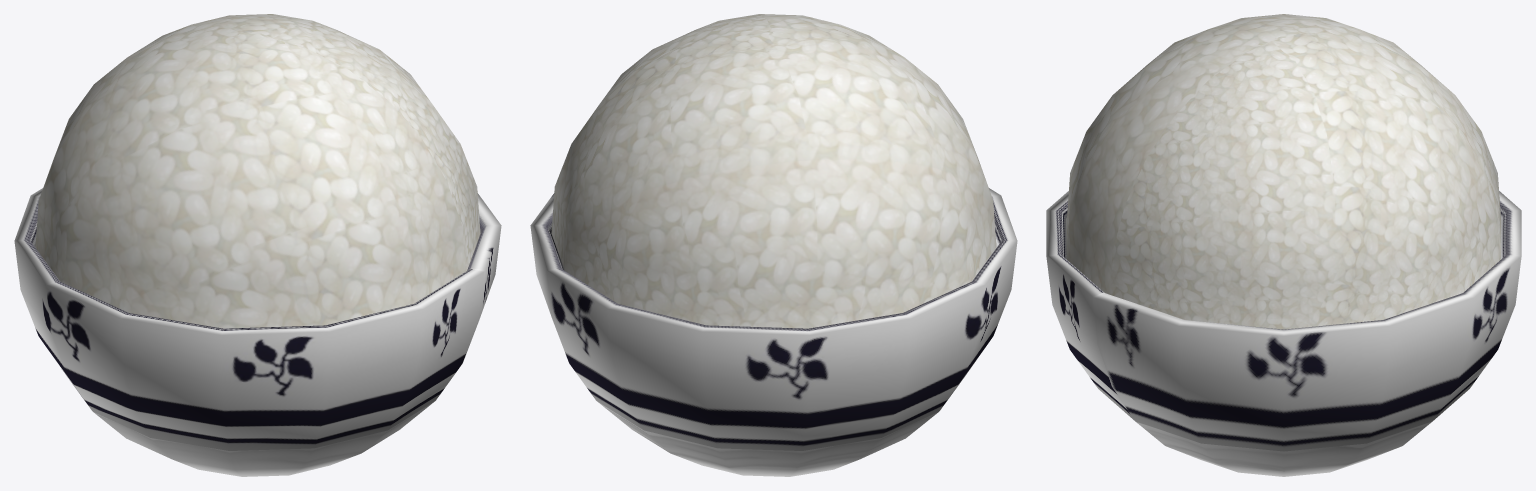
Rendered from rice.obj.
The picture shows the model from 3 angles, left to right: view 1: azimuth 30°, elevation 25°; view 2: azimuth 150°, elevation 25°; view 3: azimuth 270°, elevation 25°; orthographic projection.
Visible parts, largest first — view 1: pSphere1 group2; view 2: pSphere1 group2; view 3: pSphere1 group2.
Boxes of the visible parts, x1,y1,x2,y2 form: pSphere1 group2: (14, 14, 501, 476); pSphere1 group2: (530, 14, 1017, 476); pSphere1 group2: (1046, 14, 1521, 476).
Bounding box in the file's own units: 52.97 × 47.63 × 51.64.
1 material, 1 textured.
